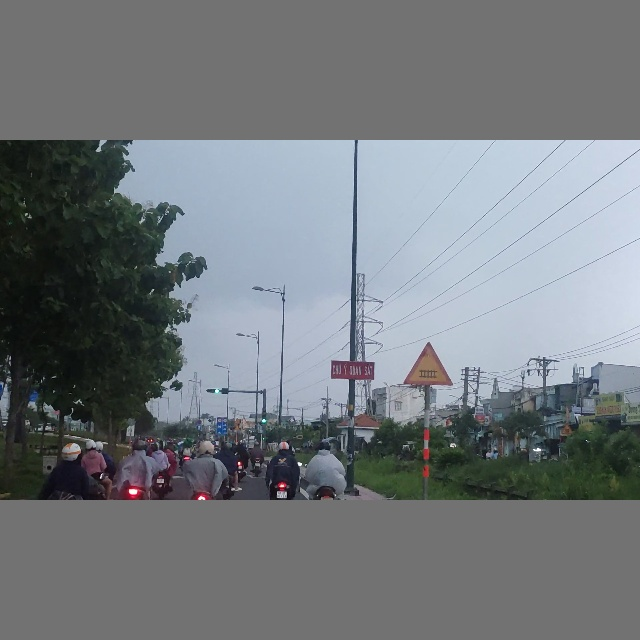I.407a: (196, 425, 202, 430)
W.210: (403, 341, 454, 387)
